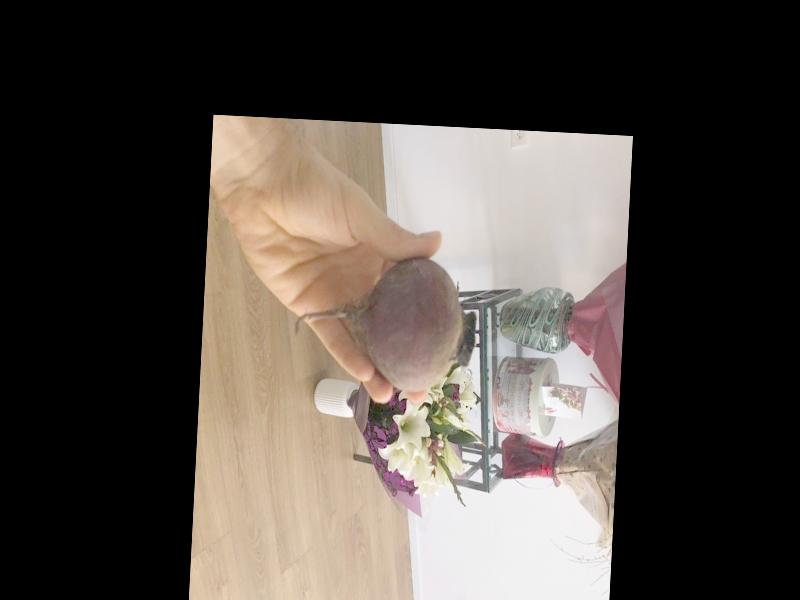Beet: (292, 251, 479, 395)
